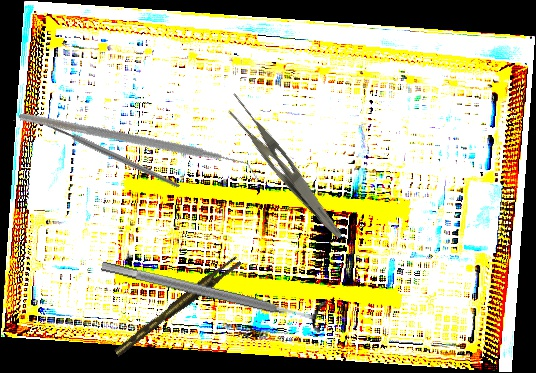Chopper: (18, 45, 259, 251)
Dressing Forceps: (215, 90, 358, 241)
Fixation Ring: (97, 247, 328, 336)
Hook Surgical: (13, 62, 182, 243)
Tissue Forceps: (109, 255, 245, 357)
